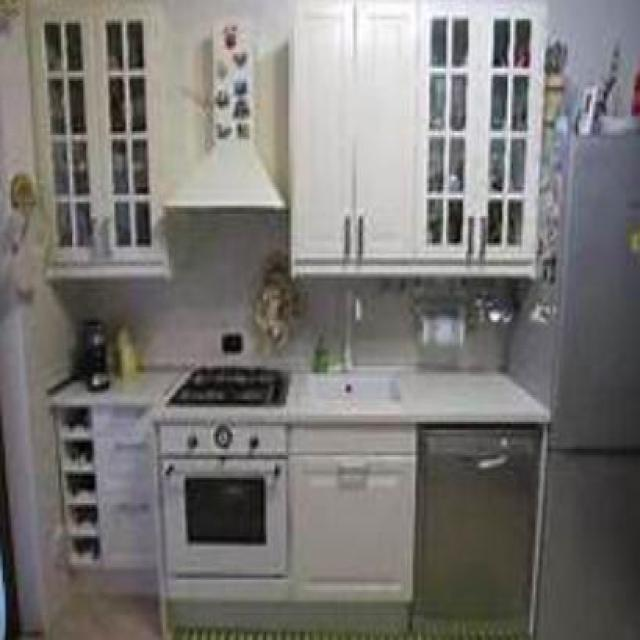dishwasher: (416, 422, 538, 617)
